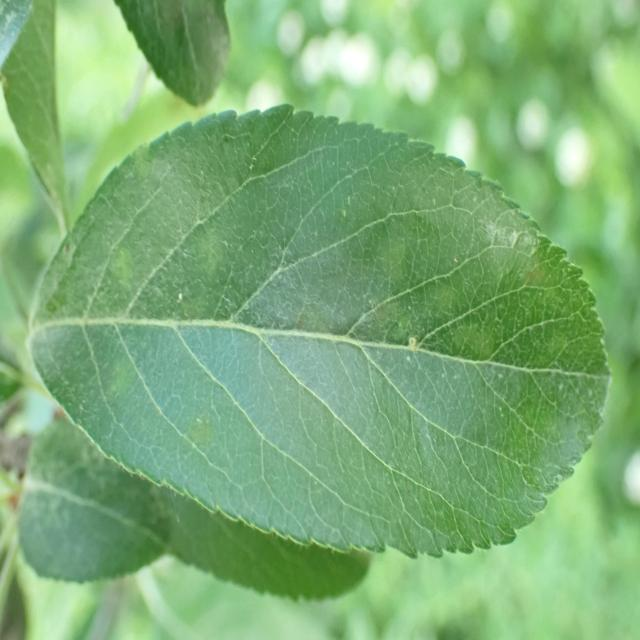scab: (38, 195, 578, 500)
